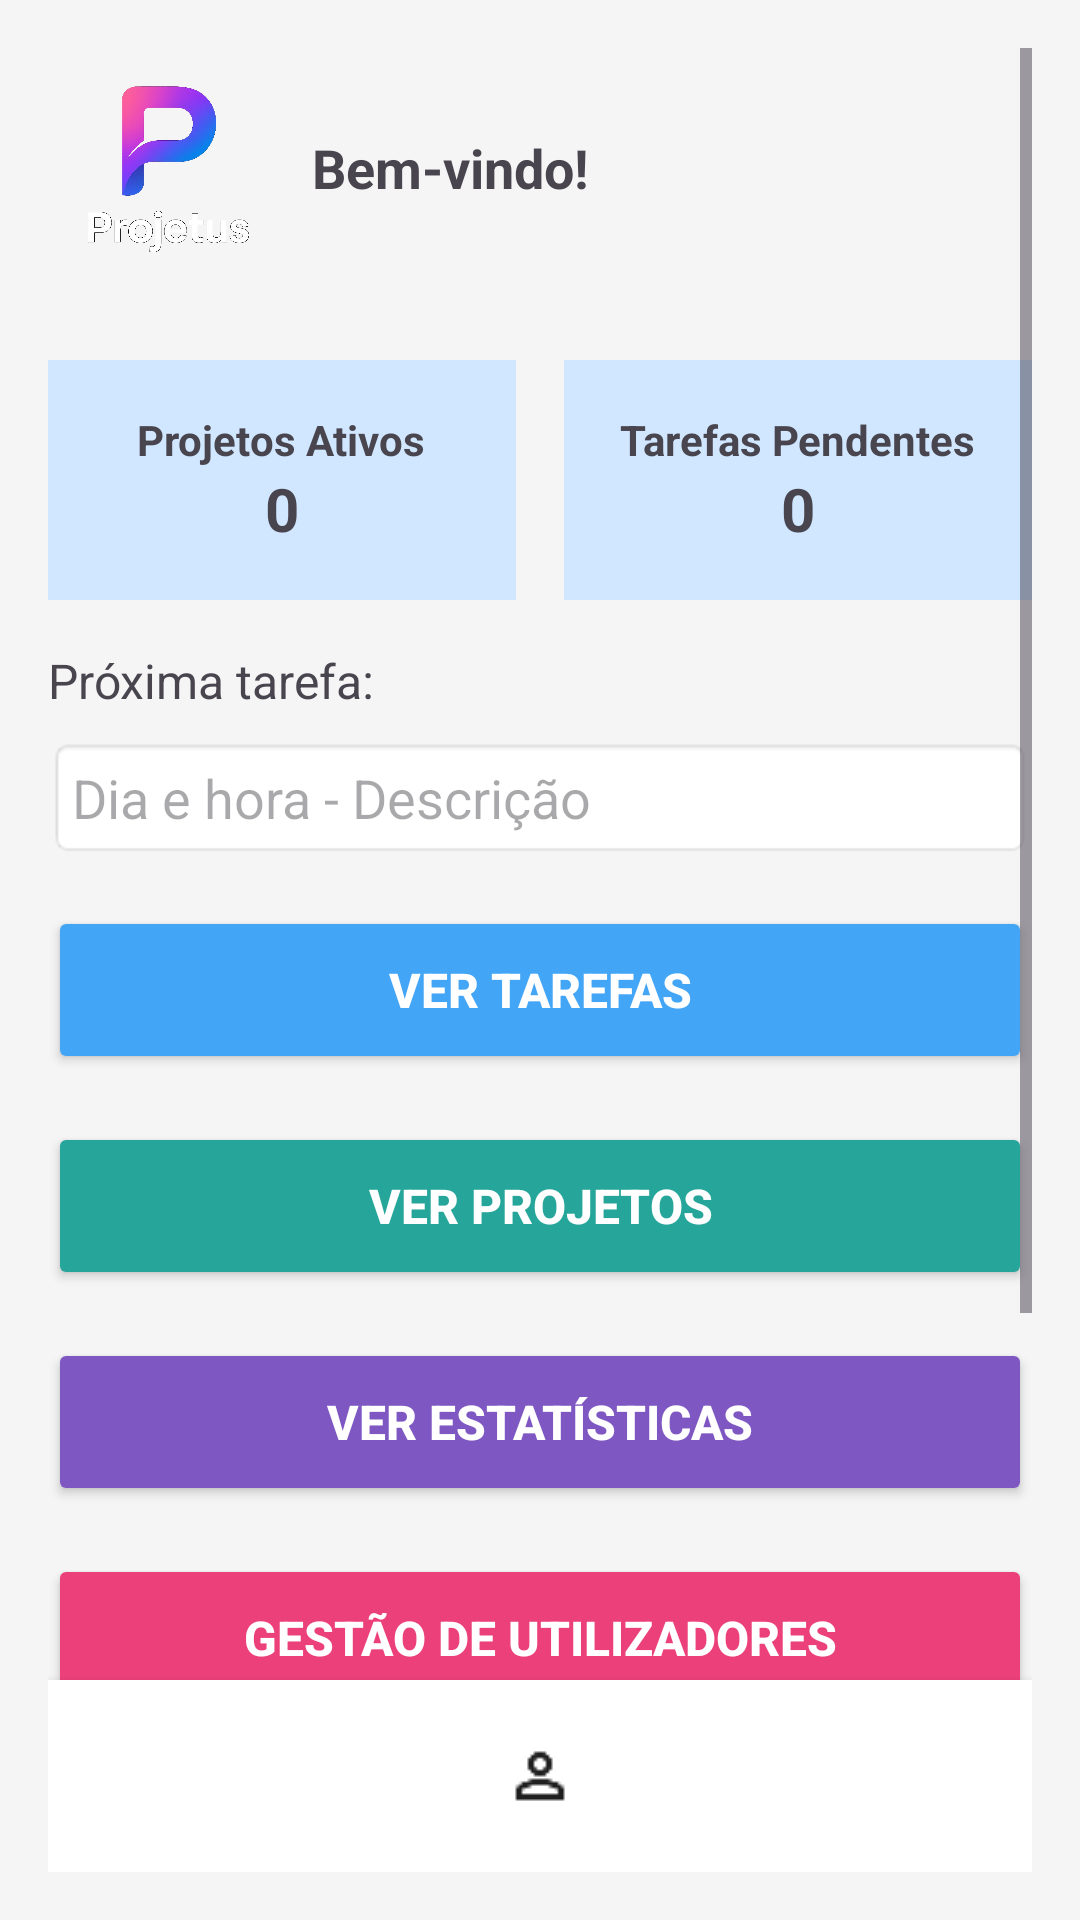

Icon bounding boxes for this 1080 × 1920 phone screenshot, format bbox=(x1, y1, x2, y2):
Perfil: bbox=(515, 1751, 565, 1801)
